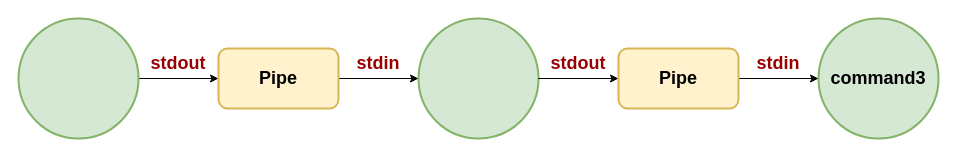
Some shapes in this 956 by 156 pixel diagram are drawn without their labels. Here are the shapes that lost their labels. From the top down, the centre of each, then its label:
the point at 78,78: command1
the point at 478,78: command2
